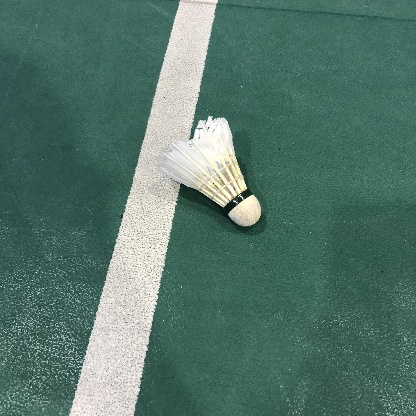ball_single: (160, 116, 261, 226)
